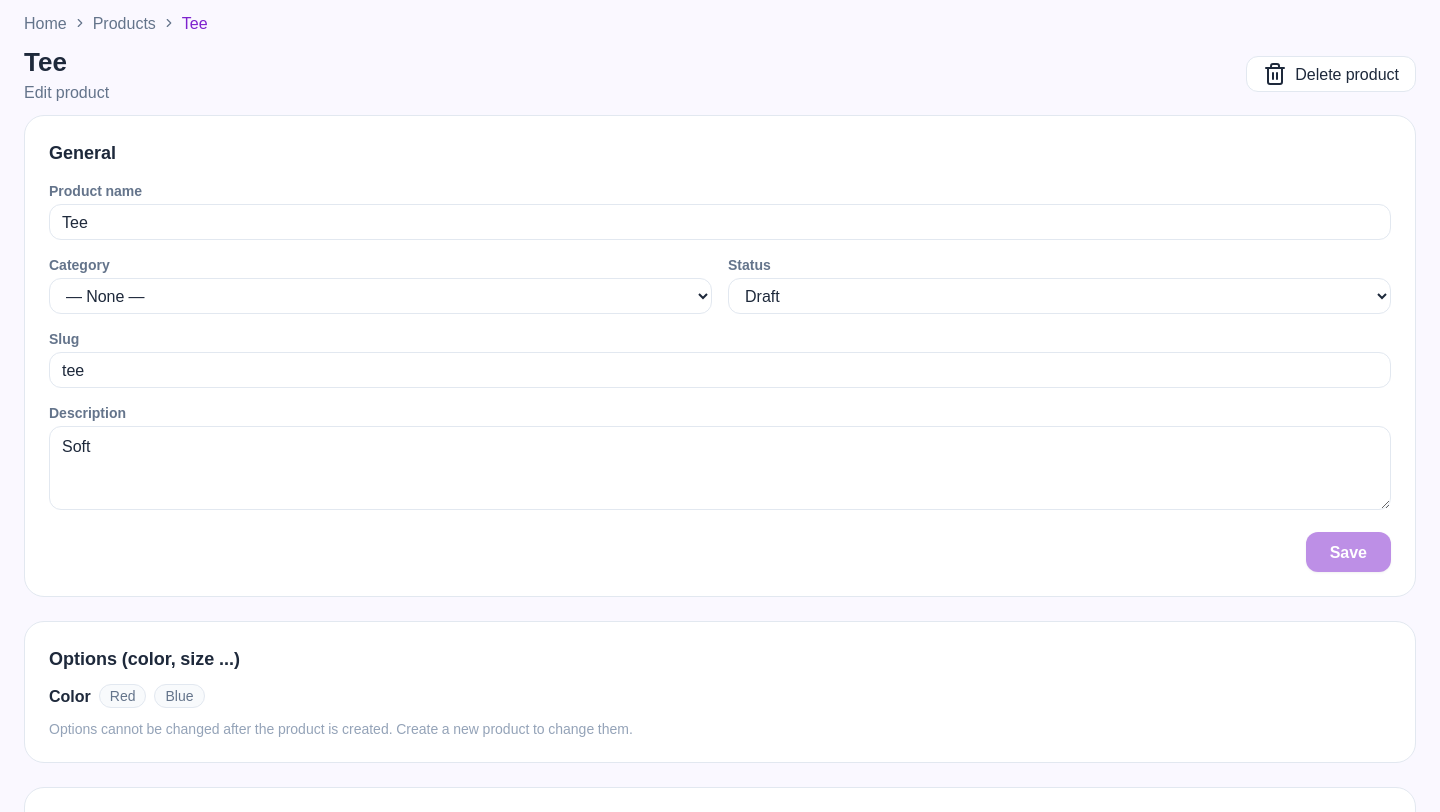
ProductDetail: general information › shows the real schema issue for an empty name, focuses the alert and does not PATCH
Clear the field labelled "Product name" at (720, 222), box 49,204 -> 1391,240
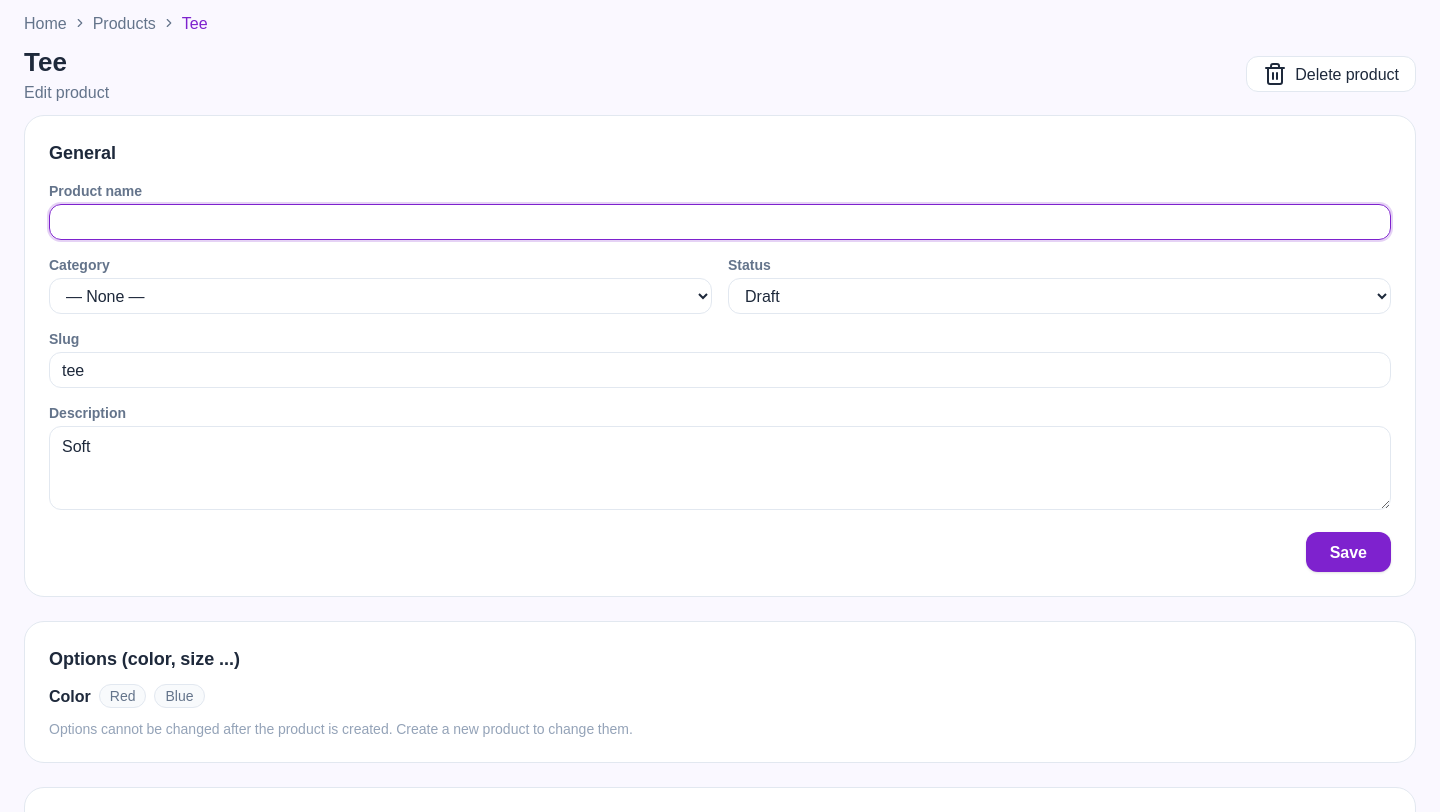
Click the button "Save".
click(1348, 552)  # box 1306,532 -> 1391,572
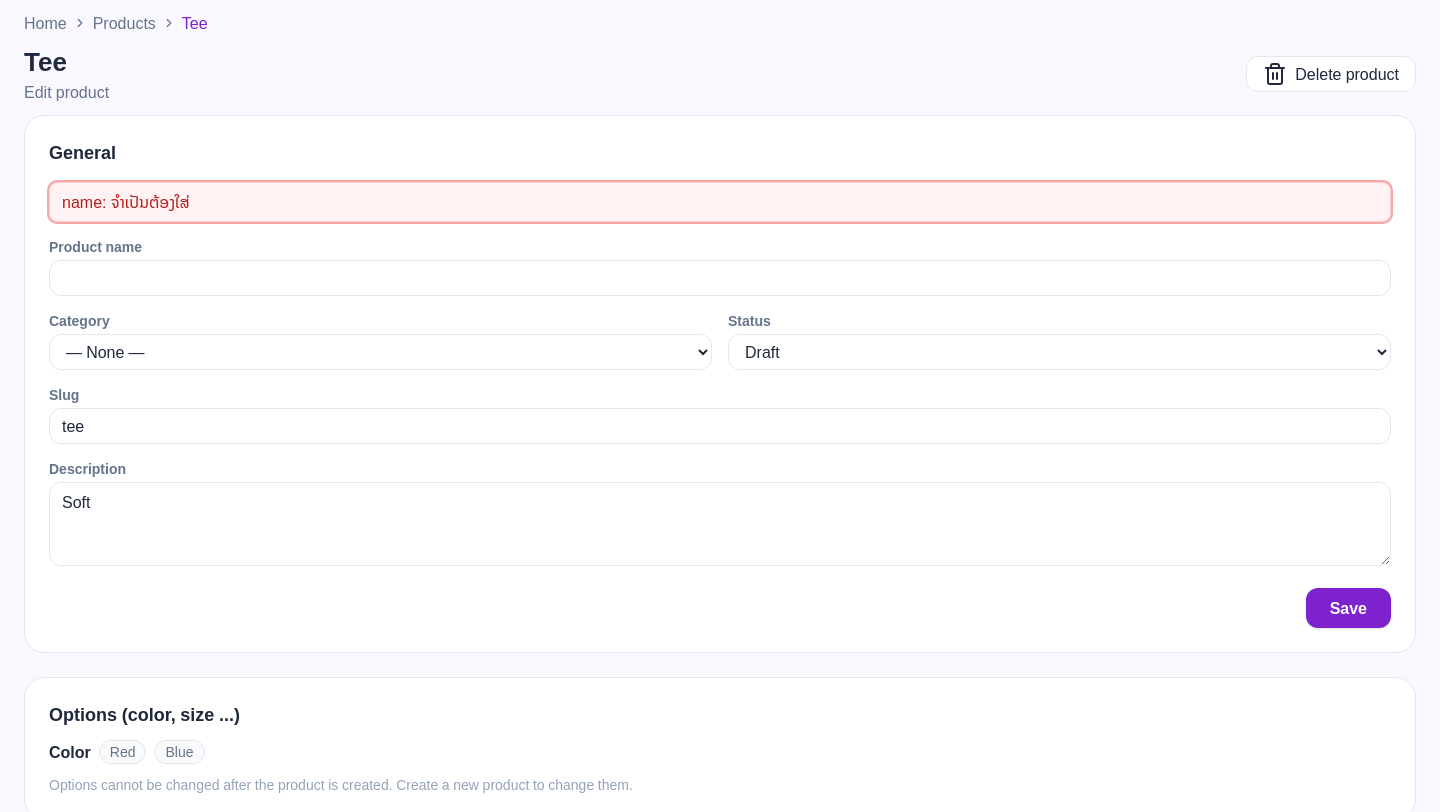
Expected: the message reads "name: ຈຳເປັນຕ້ອງໃສ່", 62,188 -> 190,214
